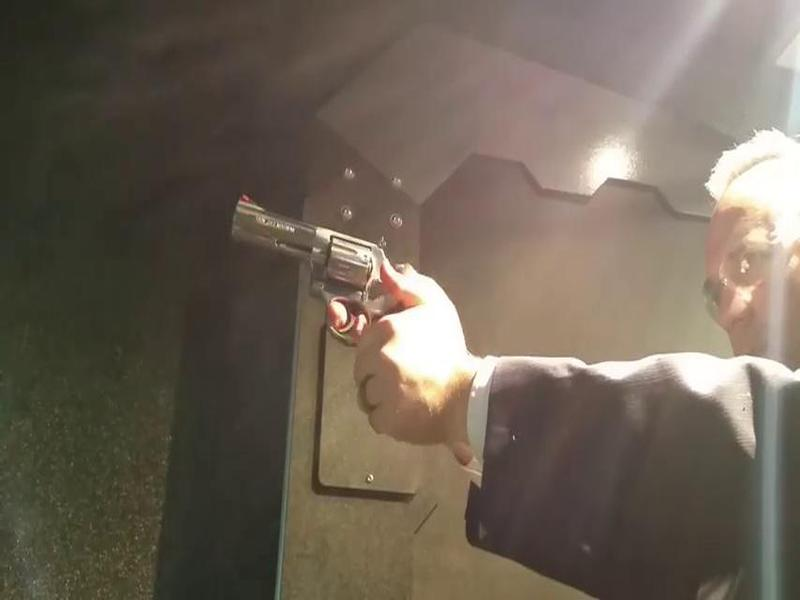Revolver: (221, 177, 420, 359)
